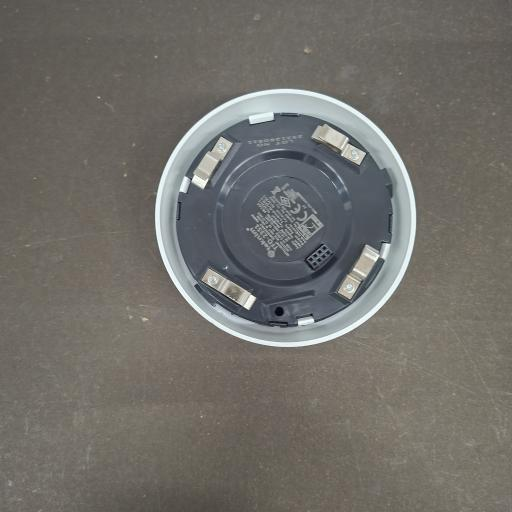yayli: (335, 244, 381, 302), (199, 268, 256, 312), (313, 124, 368, 168), (191, 137, 234, 191)
